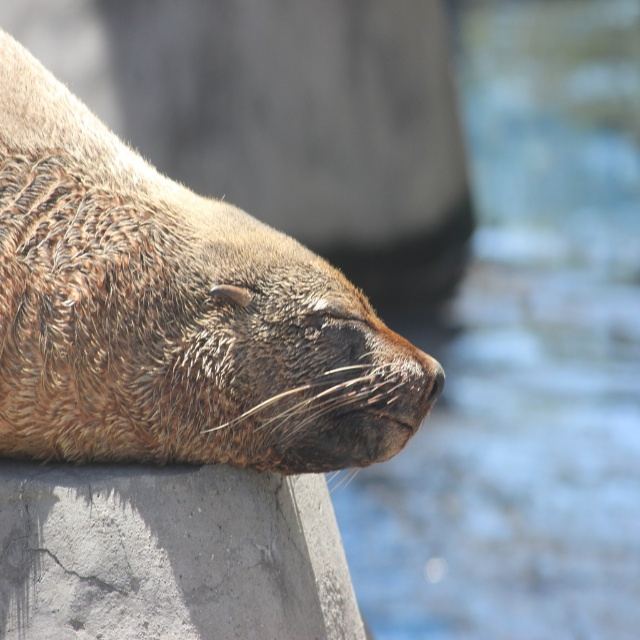Harbor seal: (0, 70, 453, 499)
